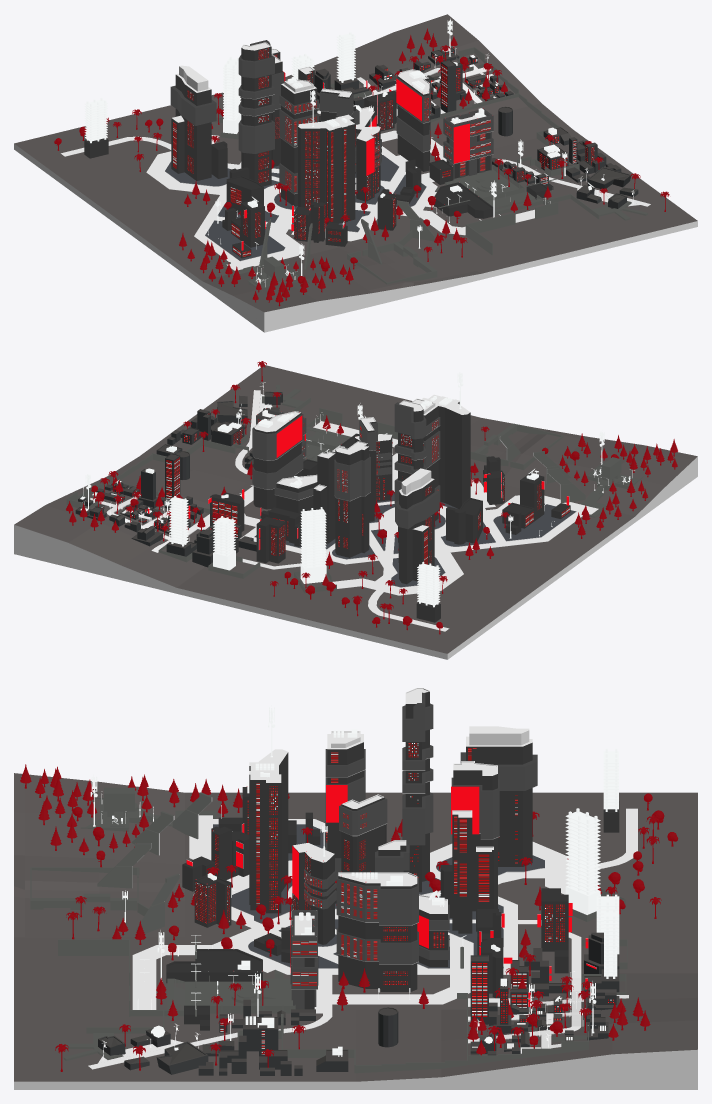
3 renders of one model, top to bottom at view 1: azimuth 30°, elevation 25°; view 2: azimuth 150°, elevation 25°; view 3: azimuth 270°, elevation 25°, orthographic. The views are drawn at different scales.
Parts seen in each view (by area): view 1: Terrain, Buildings_0, Buildings_adds, Buildings_0_1, Buildings_1, Streets, Terrain_base, Trees_Terrain, Buildings_Windows, Buildings_2, Buildings_3, Buildings_2_top (+9 smaller); view 2: Terrain, Buildings_0, Streets, Buildings_adds, Buildings_0_1, Terrain_base, Trees_Terrain, Buildings_1, Buildings_2, Buildings_3, Buildings_2_top, Buildings_Windows (+7 smaller); view 3: Terrain, Buildings_0, Buildings_adds, Buildings_0_1, Streets, Trees_Terrain, Terrain_base, Buildings_2, Buildings_1, Buildings_Windows, Buildings_2_top, Buildings_0_top (+11 smaller).
Part boxes in pixels (left/top/right/bottom): Terrain: left=14, top=14, right=697, bottom=312; Buildings_0: left=171, top=46, right=490, bottom=224; Buildings_adds: left=213, top=47, right=647, bottom=291; Buildings_0_1: left=170, top=40, right=493, bottom=193; Buildings_1: left=84, top=93, right=553, bottom=258; Streets: left=61, top=110, right=650, bottom=270; Terrain_base: left=14, top=144, right=697, bottom=332; Trees_Terrain: left=54, top=28, right=669, bottom=306; Buildings_Windows: left=173, top=48, right=594, bottom=256; Buildings_2: left=314, top=50, right=638, bottom=208; Buildings_3: left=84, top=32, right=355, bottom=143; Buildings_2_top: left=314, top=47, right=637, bottom=202; Terrain: left=14, top=365, right=697, bottom=653; Buildings_0: left=253, top=402, right=470, bottom=584; Streets: left=235, top=390, right=598, bottom=631; Buildings_adds: left=66, top=385, right=644, bottom=593; Buildings_0_1: left=252, top=402, right=440, bottom=529; Terrain_base: left=14, top=456, right=697, bottom=659; Trees_Terrain: left=66, top=361, right=677, bottom=634; Buildings_1: left=210, top=457, right=570, bottom=622; Buildings_2: left=75, top=392, right=282, bottom=567; Buildings_3: left=169, top=496, right=440, bottom=607; Buildings_2_top: left=76, top=391, right=282, bottom=556; Buildings_Windows: left=100, top=413, right=569, bottom=564; Terrain: left=14, top=773, right=697, bottom=1081; Buildings_0: left=249, top=691, right=532, bottom=1009; Buildings_adds: left=30, top=787, right=627, bottom=1073; Buildings_0_1: left=291, top=692, right=537, bottom=1009; Streets: left=88, top=808, right=637, bottom=1069; Trees_Terrain: left=20, top=764, right=678, bottom=1071; Terrain_base: left=14, top=1049, right=697, bottom=1089; Buildings_2: left=98, top=934, right=619, bottom=1075; Buildings_1: left=166, top=796, right=619, bottom=1030; Buildings_Windows: left=195, top=743, right=613, bottom=1054; Buildings_2_top: left=98, top=932, right=619, bottom=1071; Buildings_0_top: left=249, top=688, right=532, bottom=935.
Size of the model in its own units: 1000 by 320 by 1000.
28 materials, 4 textured.
